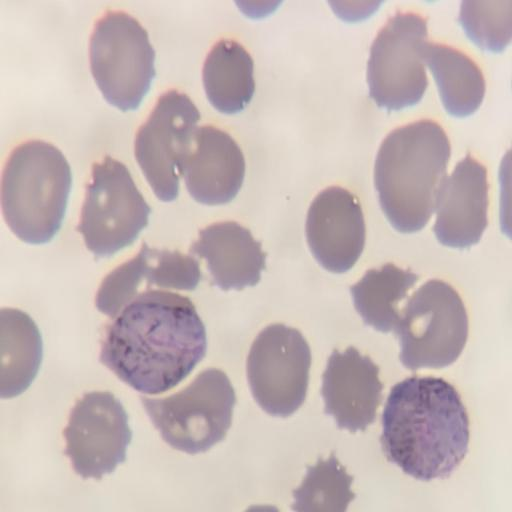Infected: (100, 300, 207, 395), (381, 376, 474, 480)
Uninfected: (138, 367, 236, 451), (0, 138, 72, 247), (376, 121, 446, 233), (131, 90, 199, 202), (78, 154, 150, 259), (91, 10, 156, 112), (367, 9, 431, 110), (66, 389, 133, 483), (400, 281, 469, 371), (428, 151, 490, 249), (246, 324, 310, 418), (176, 124, 246, 205), (319, 347, 381, 430), (307, 186, 364, 274), (349, 263, 417, 334), (424, 41, 486, 117), (198, 220, 264, 288), (202, 37, 256, 113), (291, 457, 353, 512), (98, 254, 149, 319), (140, 248, 201, 293)
